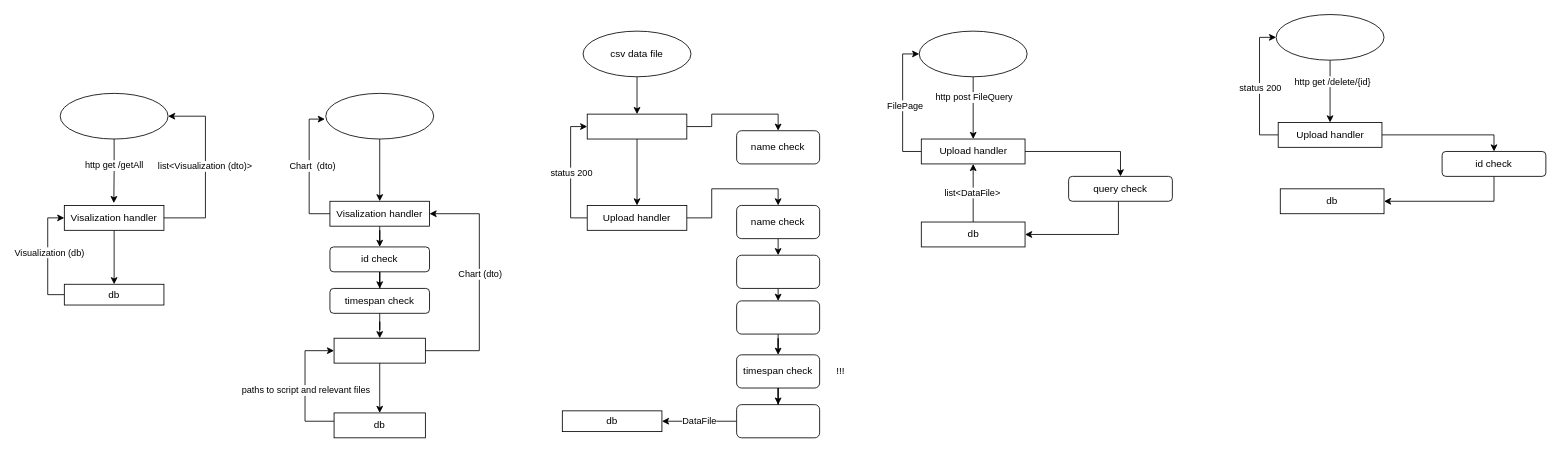
Some shapes in this 1560 by 452 pixel diagram are drawn without their labels. The shapes that lost their labels are listed below. From the top down, each one's box as (x1, y1, x2, y2) in pixels, then its label:
(918, 30, 1027, 77): frontend file search request
(1275, 14, 1384, 60): frontend file delete request
(59, 93, 168, 139): Visualizations list request
(325, 93, 434, 139): frontend chart data request
(586, 113, 687, 139): frontend form
(736, 254, 820, 288): extension check
(736, 300, 820, 334): size check
(333, 337, 425, 363): R Script helper
(736, 404, 820, 438): headers check
